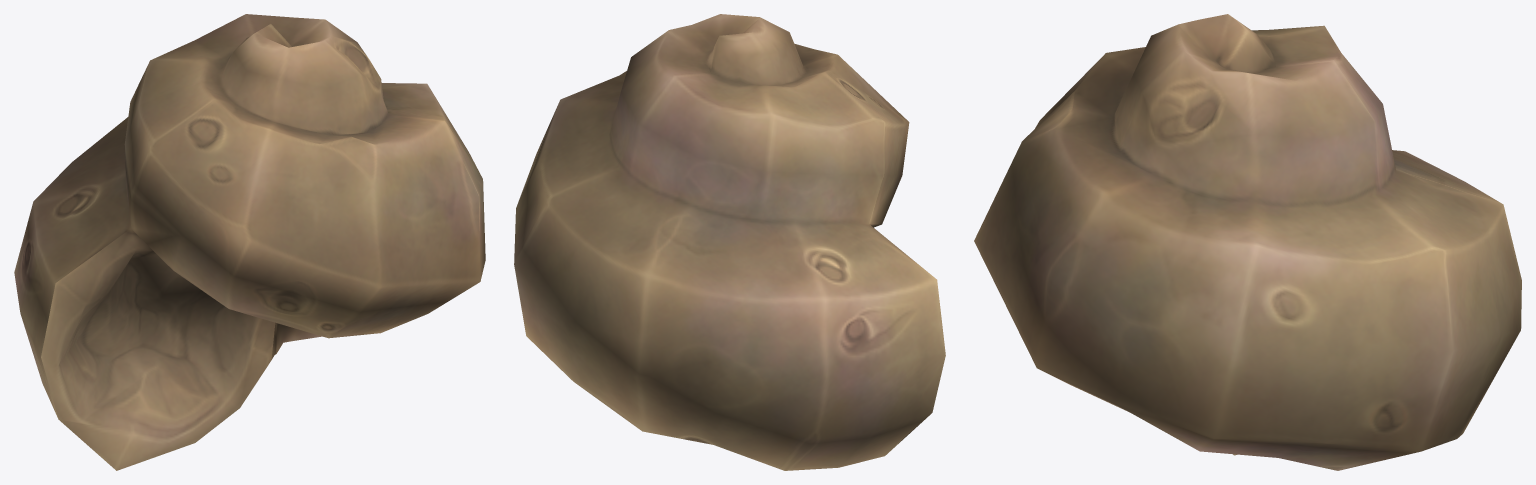
Rendered from shell3.fbx.
3 renders of one model, left to right at view 1: azimuth 30°, elevation 25°; view 2: azimuth 150°, elevation 25°; view 3: azimuth 270°, elevation 25°, orthographic. The views are drawn at different scales.
Visible parts, largest first — view 1: shell_mesh; view 2: shell_mesh; view 3: shell_mesh.
Boxes of the visible parts, bbox=[...] form: shell_mesh: bbox=[14, 14, 485, 470]; shell_mesh: bbox=[514, 14, 945, 470]; shell_mesh: bbox=[974, 14, 1521, 470].
Size of the model in its own units: 24.93 by 22.61 by 23.27.
1 material, 1 textured.
